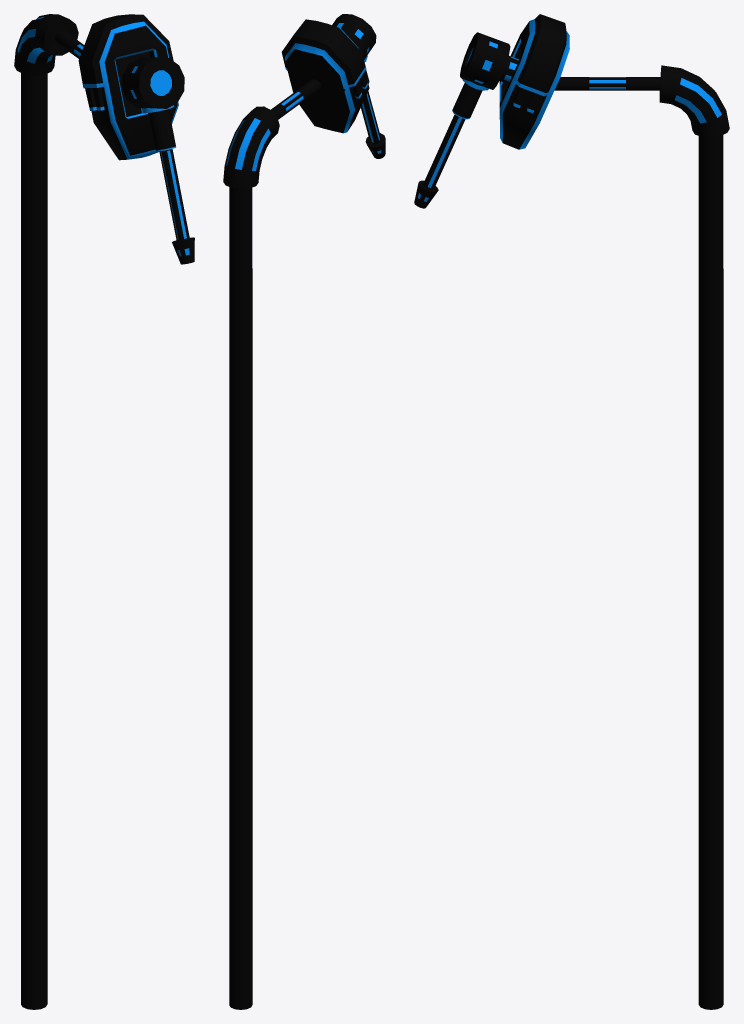
File: Hanged gun.FBX
3 views of the same model, side by side, from view 1: azimuth 30°, elevation 25°; view 2: azimuth 150°, elevation 25°; view 3: azimuth 270°, elevation 25° (orthographic). The views are drawn at different scales.
Parts seen in each view (by area): view 1: Cylinder096, hanged gun; view 2: Cylinder096, hanged gun; view 3: Cylinder096, hanged gun.
Boxes of the visible parts, box(x1,y1,x2,y2) form: Cylinder096: box(14, 14, 84, 1009); hanged gun: box(78, 14, 194, 264); Cylinder096: box(223, 79, 321, 1009); hanged gun: box(281, 14, 385, 158); Cylinder096: box(554, 65, 729, 1009); hanged gun: box(414, 14, 569, 208).
Size of the model in its own units: 58.41 by 746 by 217.
